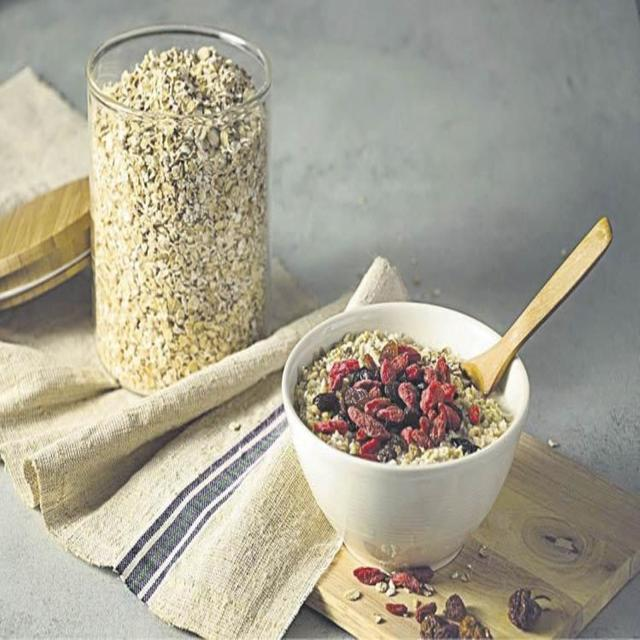avena: (295, 302, 520, 480), (87, 17, 275, 138)
